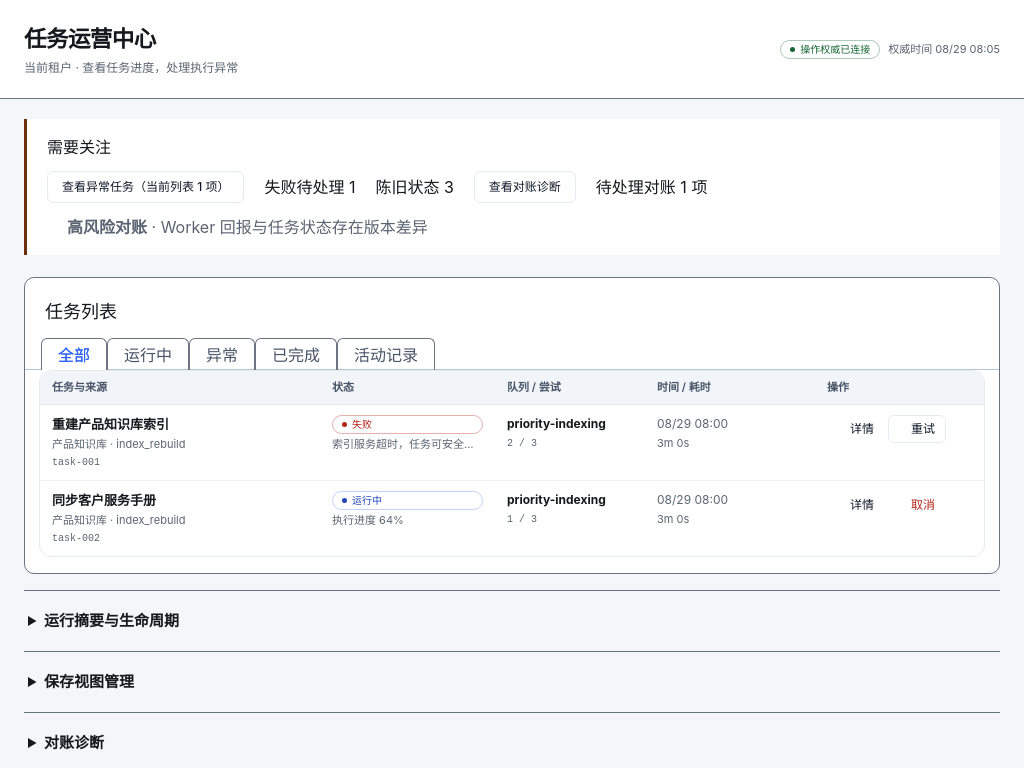
Stage 24 TaskOperationsCenter › exposes the five operational tabs and switches the activity surface
This screenshot has width=1024, height=768.
expect the tab "全部" is shown: met, box [41,338,107,370]
expect the tab "运行中" is shown: met, box [107,338,189,370]
Click the tab "活动记录" at (386, 354), box [337,338,435,370]
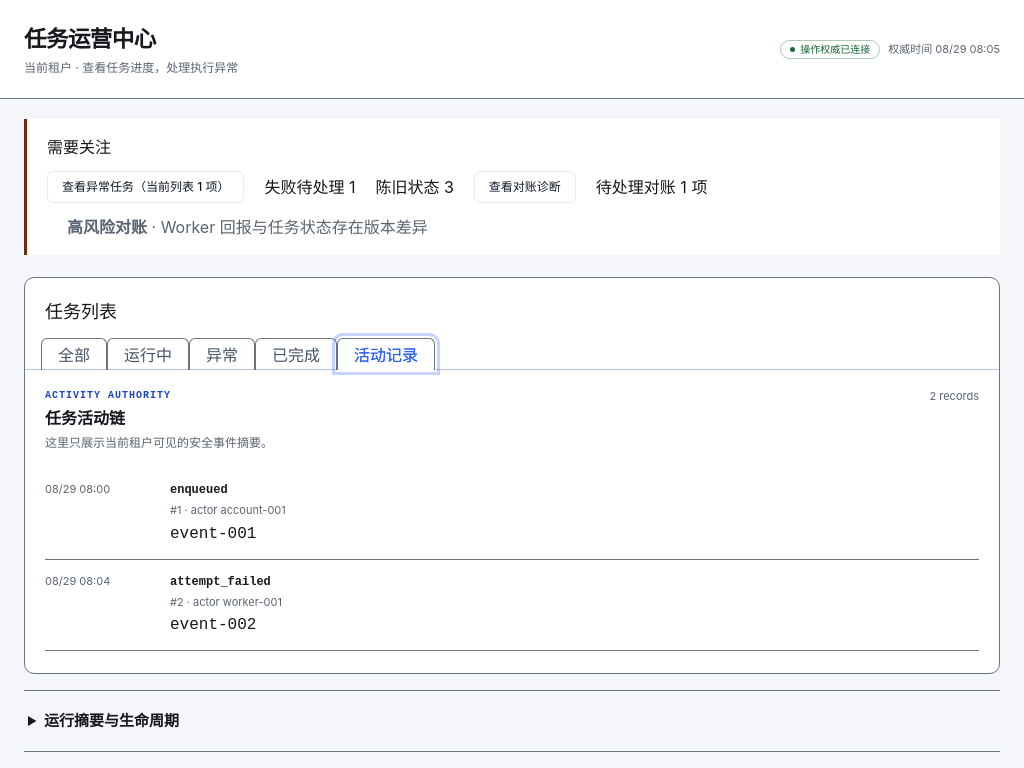
expect the heading "任务活动链" is shown: met, box [45,408,125,428]
expect the text "attempt_failed" is shown: met, box [170,574,271,588]
